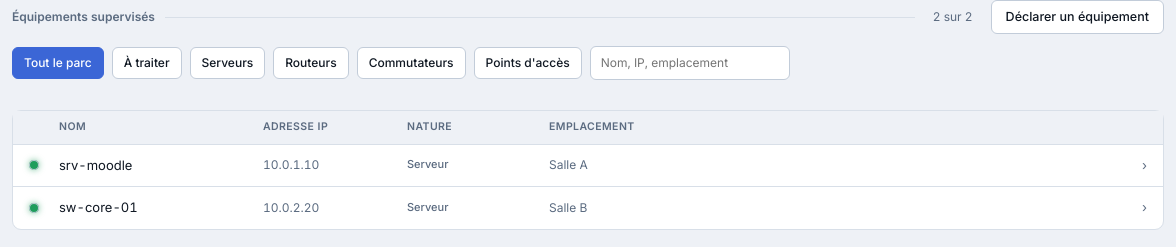
Scenario: EquipementsPage › filtre la liste par nom, IP ou emplacement
Type "sw-core" into the search field named "Filtrer le parc" at (690, 63), box [590,46,790,80]
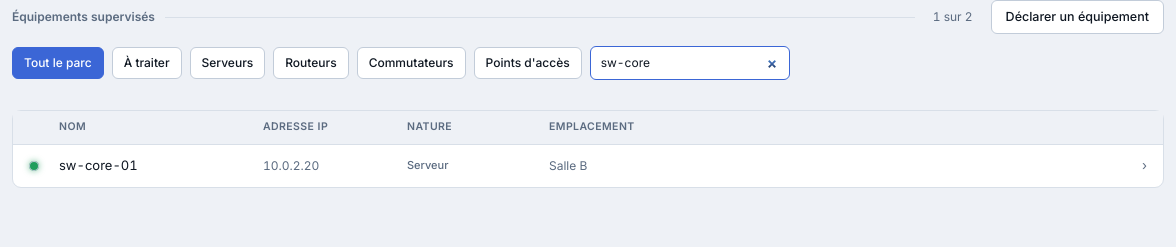
Expected: the text "sw-core-01" is shown, [59,157,138,173]
Expected: the button "srv-moodle" is gone
Expected: the text "1 sur 2" is shown, [933,8,973,26]
